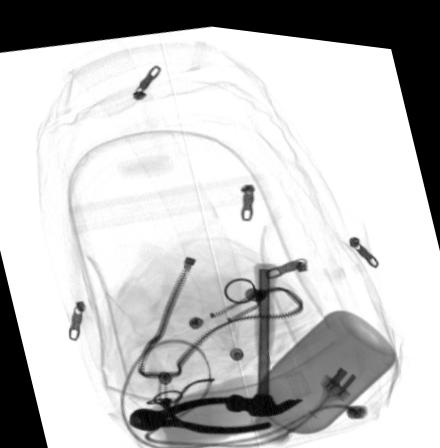Hammer: (224, 256, 302, 409)
Pliers: (128, 391, 270, 428)
